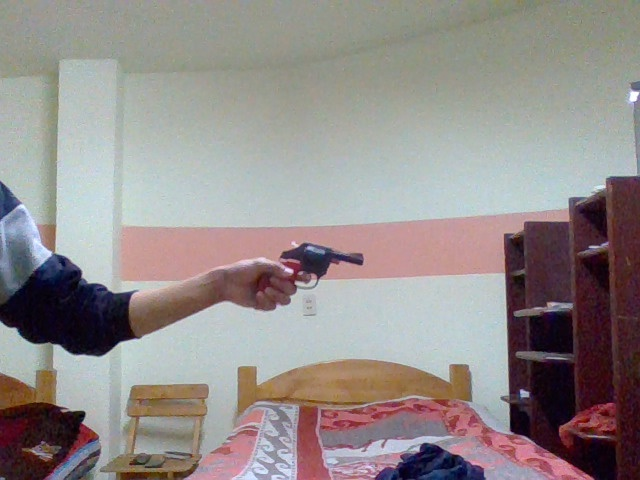pistola: (256, 233, 374, 304)
